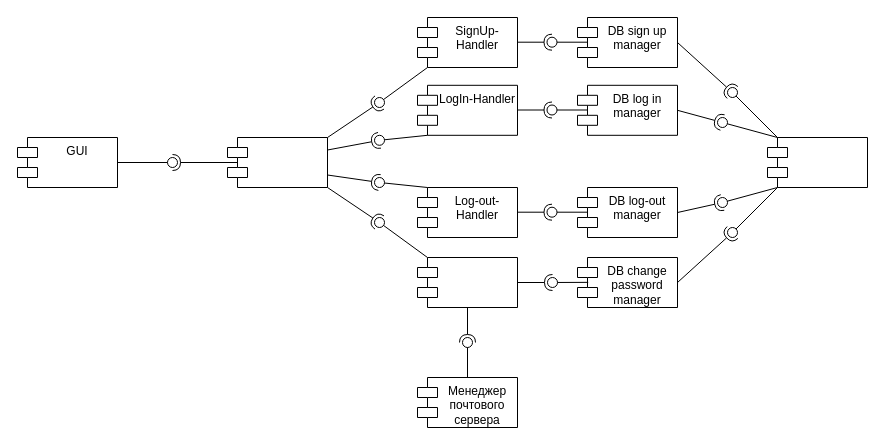
The diagram is 885 pixels wide and 445 high, and some of its shapes have lost their labels. The shapes that lost their labels are listed below. From the top down, each one's box as (x1, y1, x2, y2) in pixels, then its label:
(226, 136, 328, 188): API-Gateway
(766, 136, 868, 188): СУБД
(416, 256, 518, 308): Change-password-Handler
